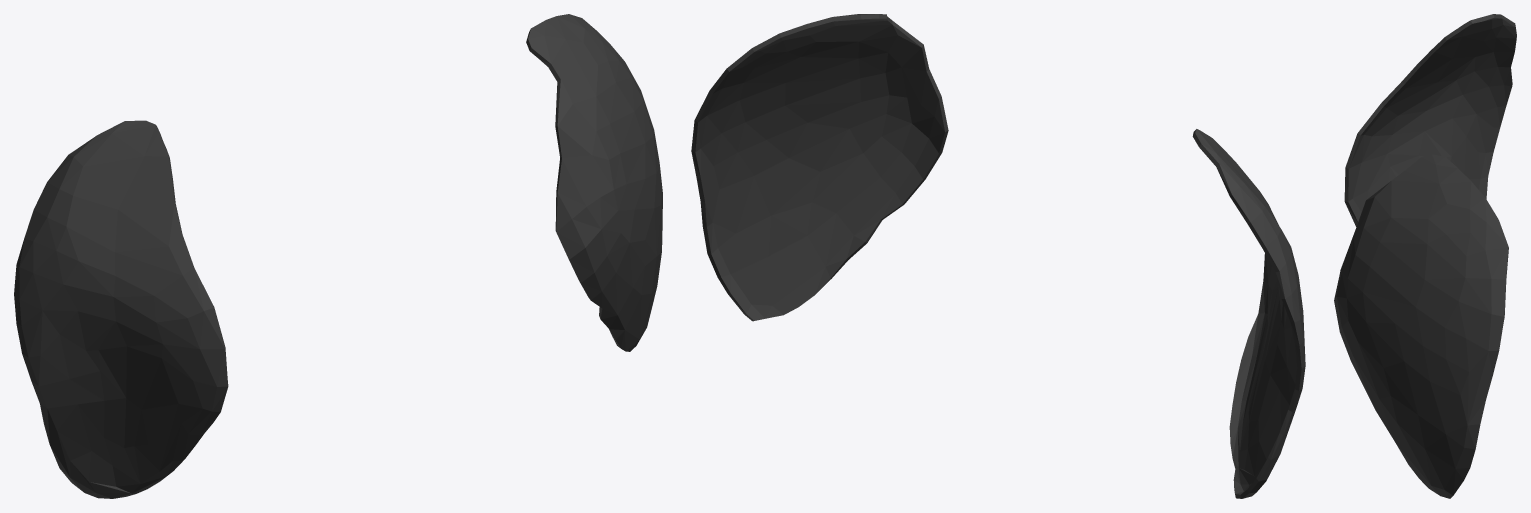
File: c2_cranial_articular_faces.glb
3 renders of one model, left to right at view 1: azimuth 30°, elevation 25°; view 2: azimuth 150°, elevation 25°; view 3: azimuth 270°, elevation 25°, orthographic. The views are drawn at different scales.
Visible parts, largest first — view 1: c2_cranial_articular_faces; view 2: c2_cranial_articular_faces; view 3: c2_cranial_articular_faces.
Boxes of the visible parts, x1,y1,x2,y2 form: c2_cranial_articular_faces: [14, 14, 662, 498]; c2_cranial_articular_faces: [691, 14, 1305, 498]; c2_cranial_articular_faces: [1334, 14, 1516, 498].
Bounding box in the file's own units: 34.78 × 20.24 × 10.09.
1 material, 1 textured.
